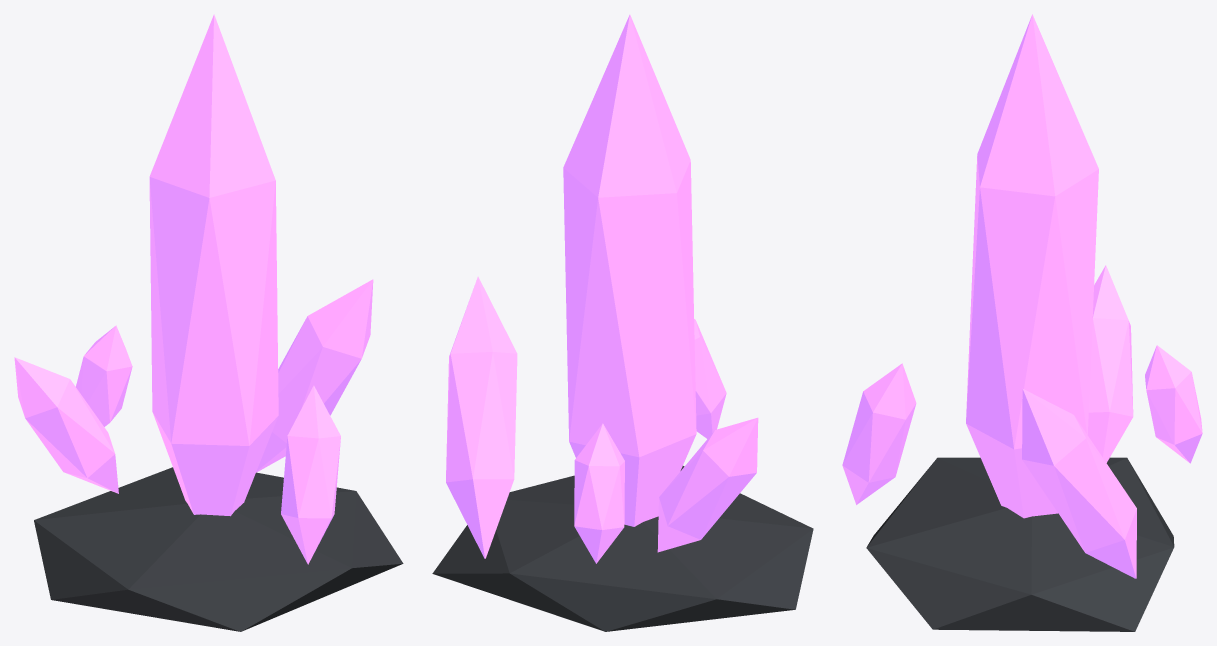
Rendered from TC_PICKUP_Component_V1.glb.
3 views of the same model, side by side, from view 1: azimuth 30°, elevation 25°; view 2: azimuth 150°, elevation 25°; view 3: azimuth 270°, elevation 25° (orthographic).
Visible parts, largest first — view 1: TC_Component_Core, TC_Component_Rock, TC_Component_Shard_0, TC_Component_Shard_1, TC_Component_Shard_2, TC_Component_Shard_3; view 2: TC_Component_Core, TC_Component_Rock, TC_Component_Shard_0, TC_Component_Shard_1, TC_Component_Shard_3, TC_Component_Shard_2; view 3: TC_Component_Core, TC_Component_Rock, TC_Component_Shard_0, TC_Component_Shard_1, TC_Component_Shard_2, TC_Component_Shard_3.
Part boxes in pixels (left/top/right/bottom): TC_Component_Core: left=149, top=14, right=278, bottom=516; TC_Component_Rock: left=34, top=467, right=403, bottom=631; TC_Component_Shard_0: left=256, top=279, right=373, bottom=472; TC_Component_Shard_1: left=14, top=357, right=118, bottom=493; TC_Component_Shard_2: left=281, top=385, right=340, bottom=564; TC_Component_Shard_3: left=76, top=325, right=132, bottom=426; TC_Component_Core: left=563, top=14, right=696, bottom=526; TC_Component_Rock: left=432, top=466, right=813, bottom=631; TC_Component_Shard_0: left=446, top=276, right=517, bottom=558; TC_Component_Shard_1: left=657, top=417, right=758, bottom=552; TC_Component_Shard_3: left=574, top=423, right=624, bottom=563; TC_Component_Shard_2: left=694, top=319, right=726, bottom=438; TC_Component_Core: left=966, top=14, right=1098, bottom=518; TC_Component_Rock: left=866, top=457, right=1174, bottom=631; TC_Component_Shard_0: left=1022, top=389, right=1136, bottom=578; TC_Component_Shard_1: left=1087, top=265, right=1133, bottom=462; TC_Component_Shard_2: left=842, top=363, right=916, bottom=504; TC_Component_Shard_3: left=1145, top=345, right=1202, bottom=463.
Bounding box in the file's own units: 0.3241 × 0.5304 × 0.306.
